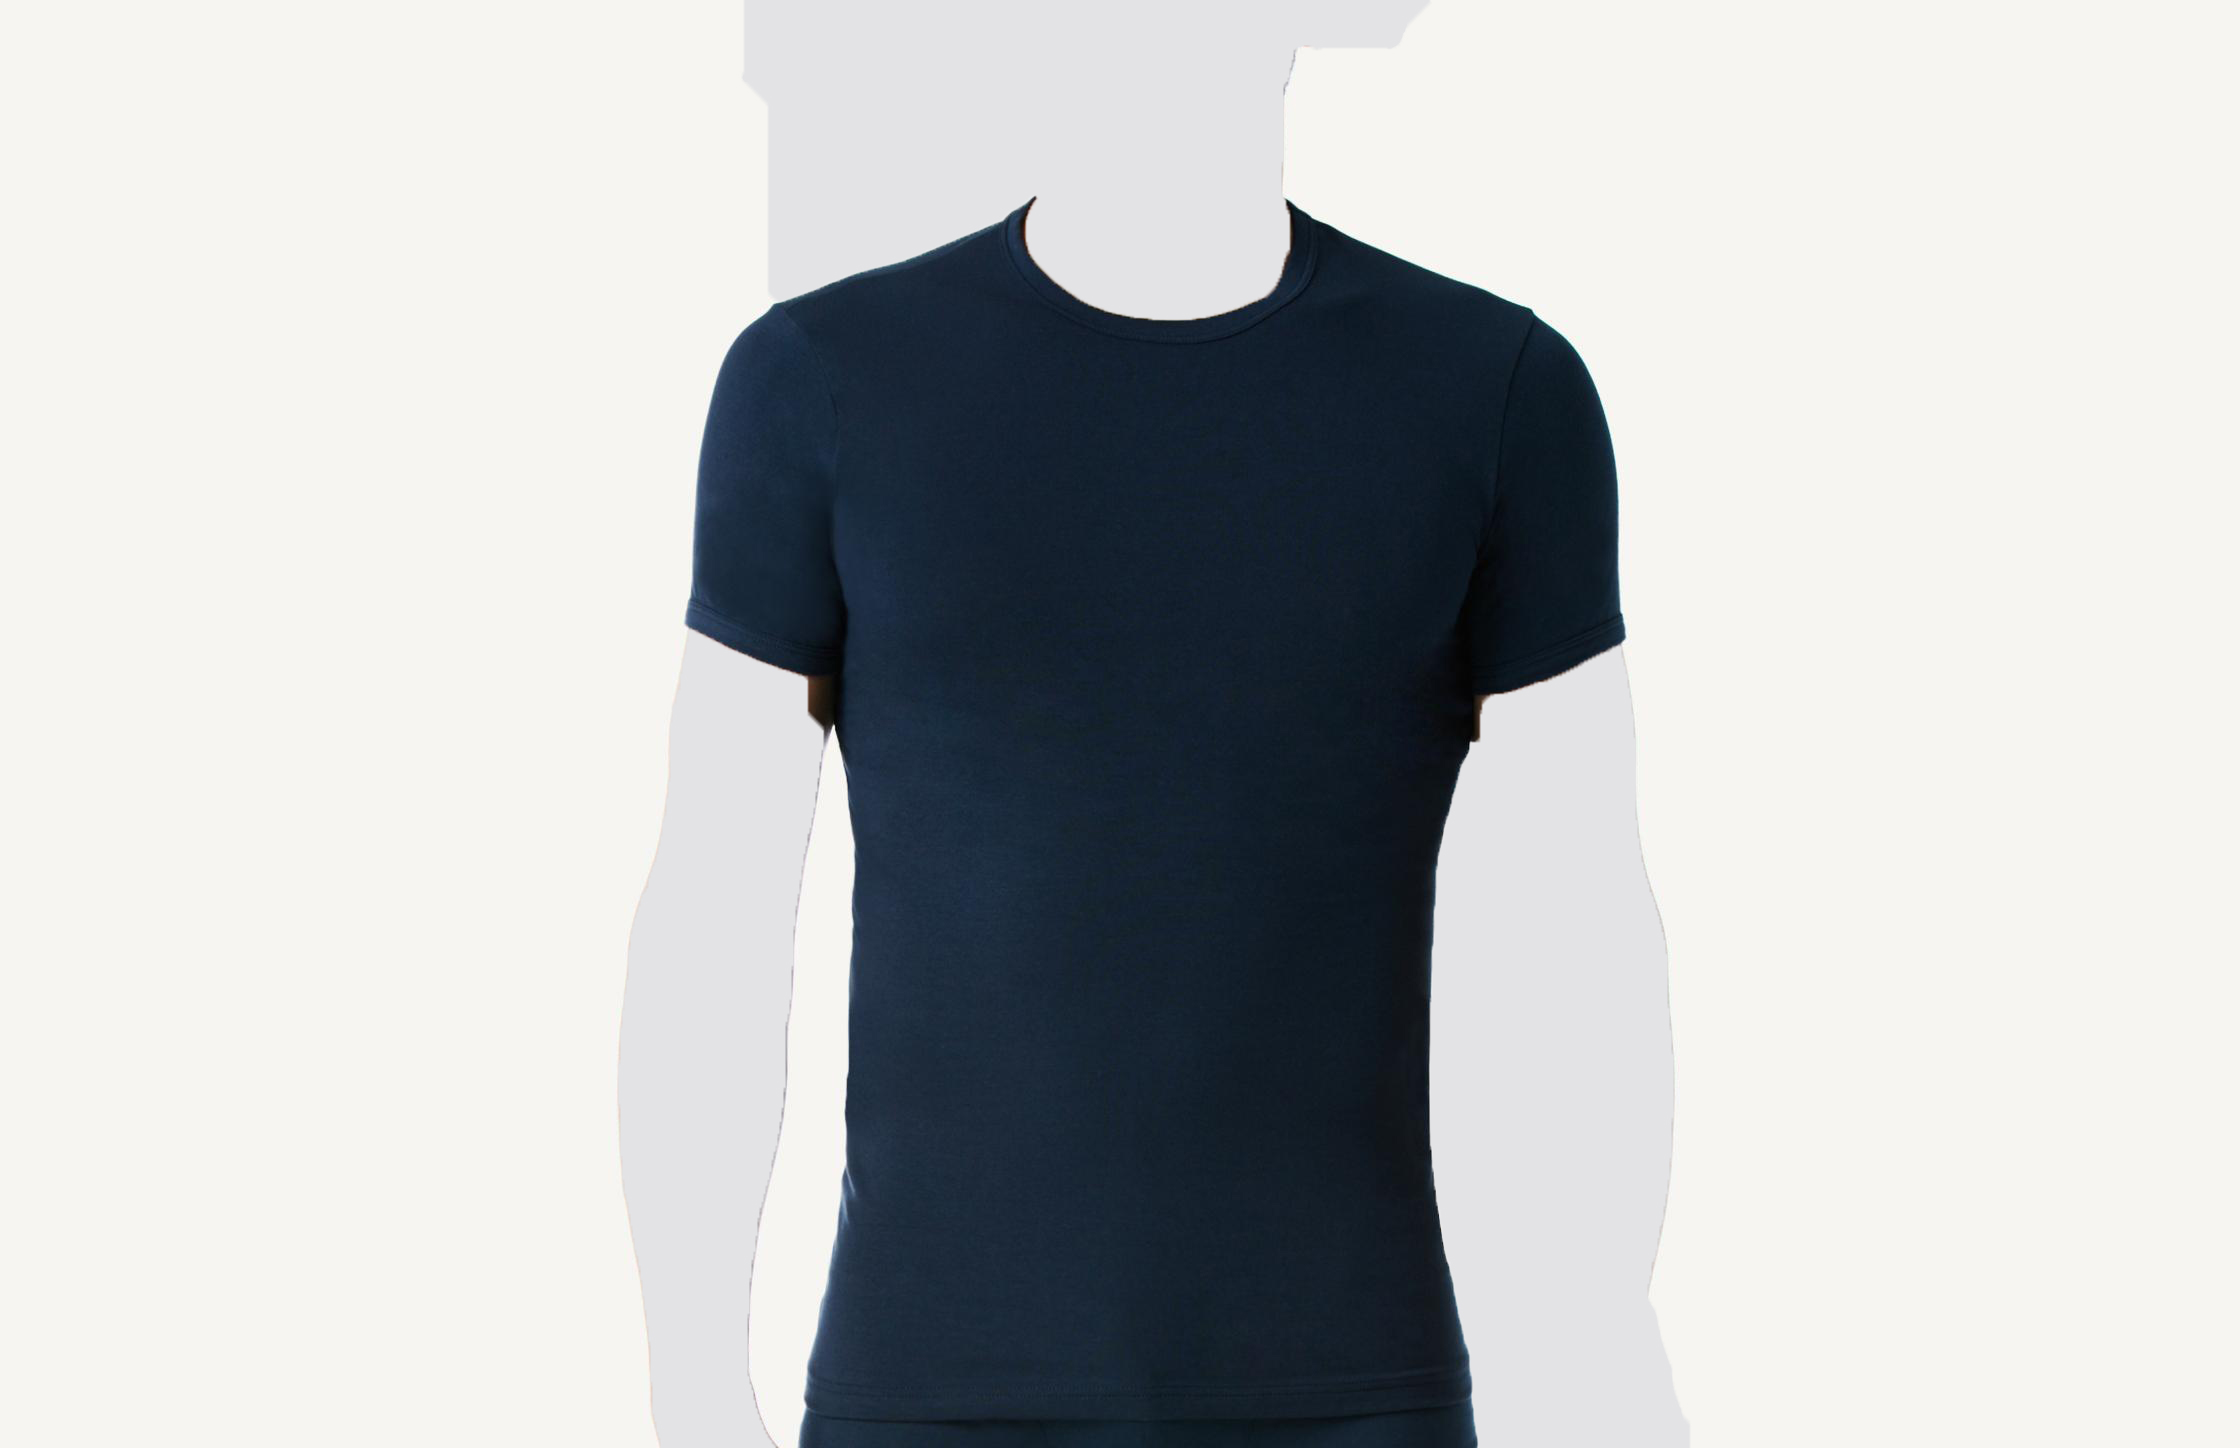teeshirt: (664, 189, 1634, 1448)
